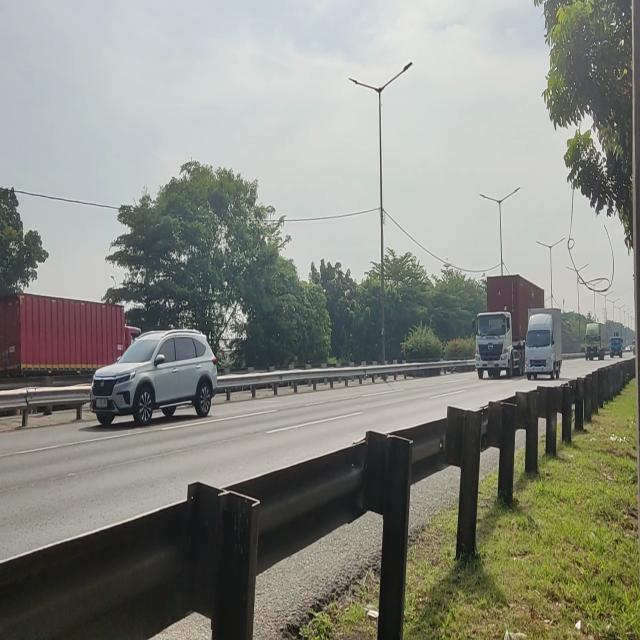Golongan I: (86, 322, 220, 434)
